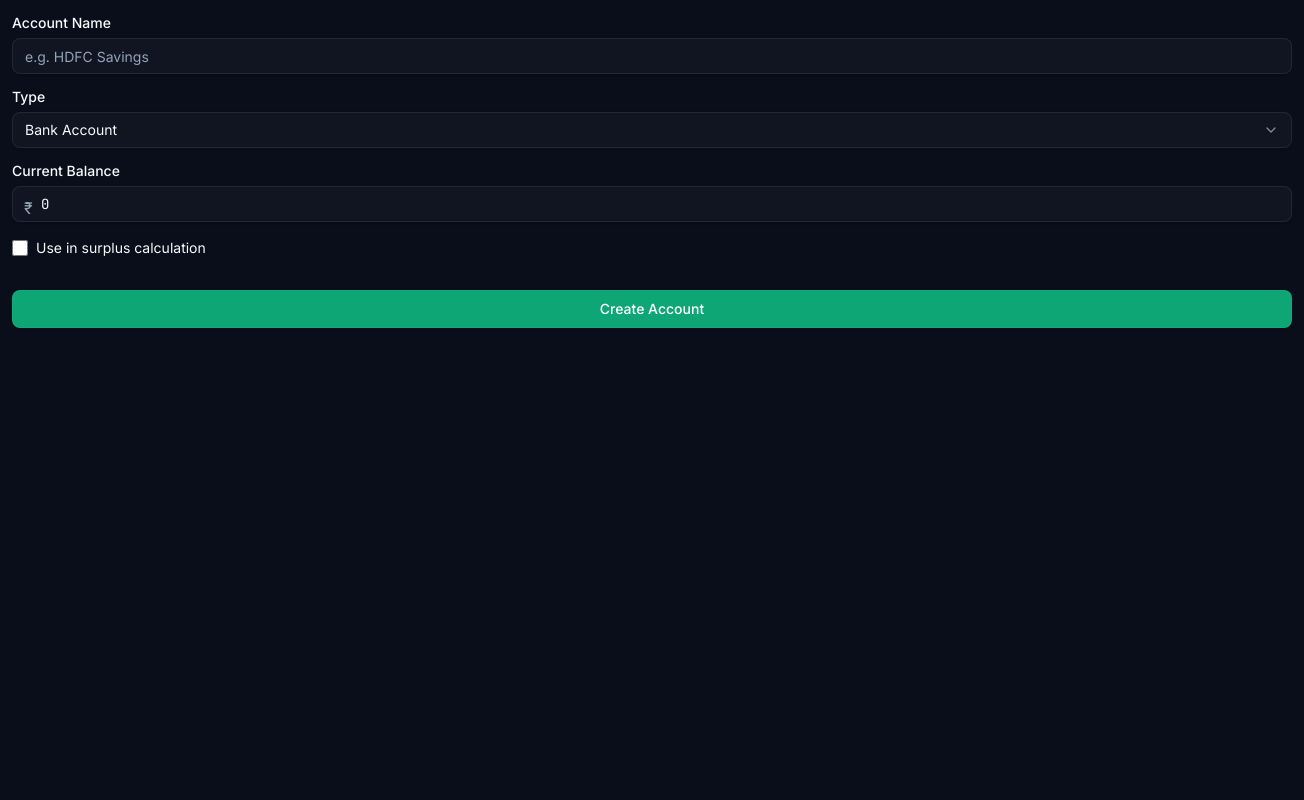
Test case: AccountCreateFormFields - Loan type › renders loan-specific fields when loan type selected
Click the dropdown at coordinates (71, 130), box [12, 112, 1292, 148]
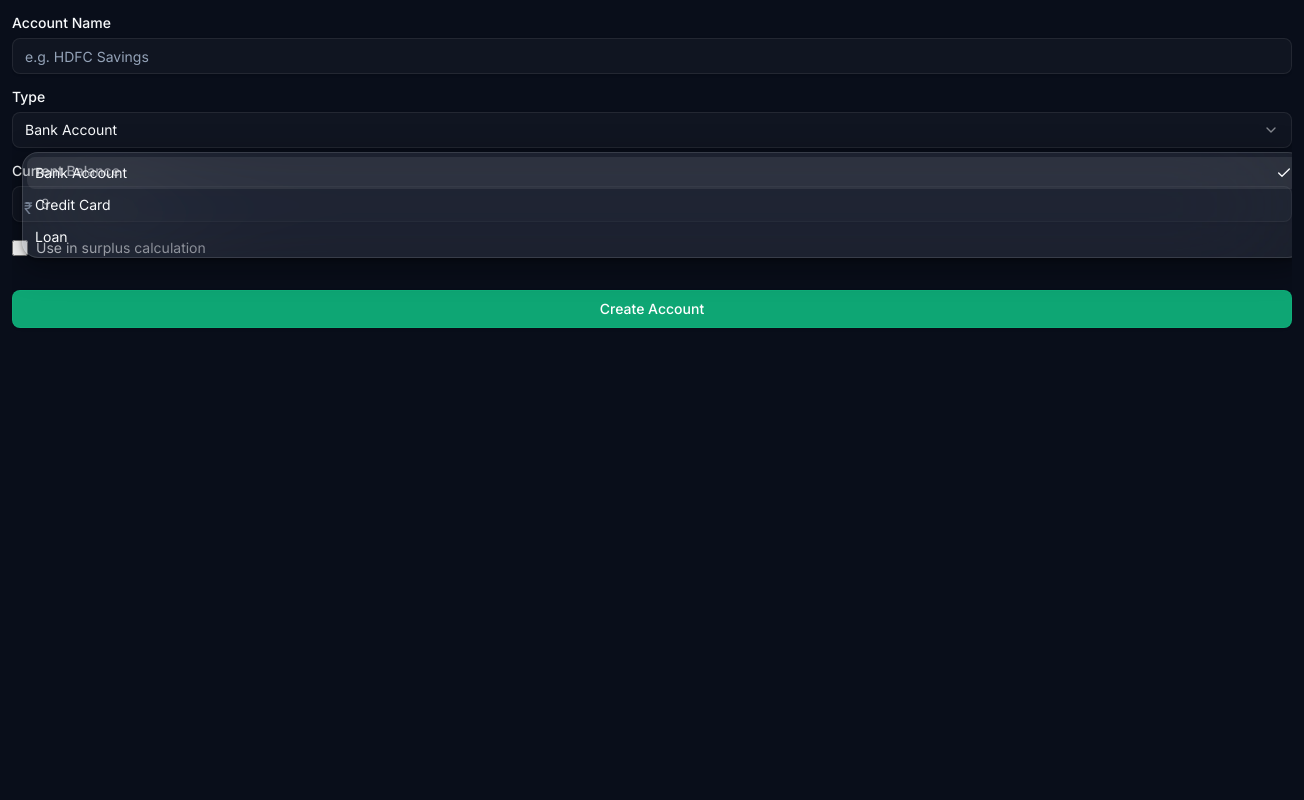
Click the option "Loan" at coordinates (51, 236), box [35, 228, 68, 245]
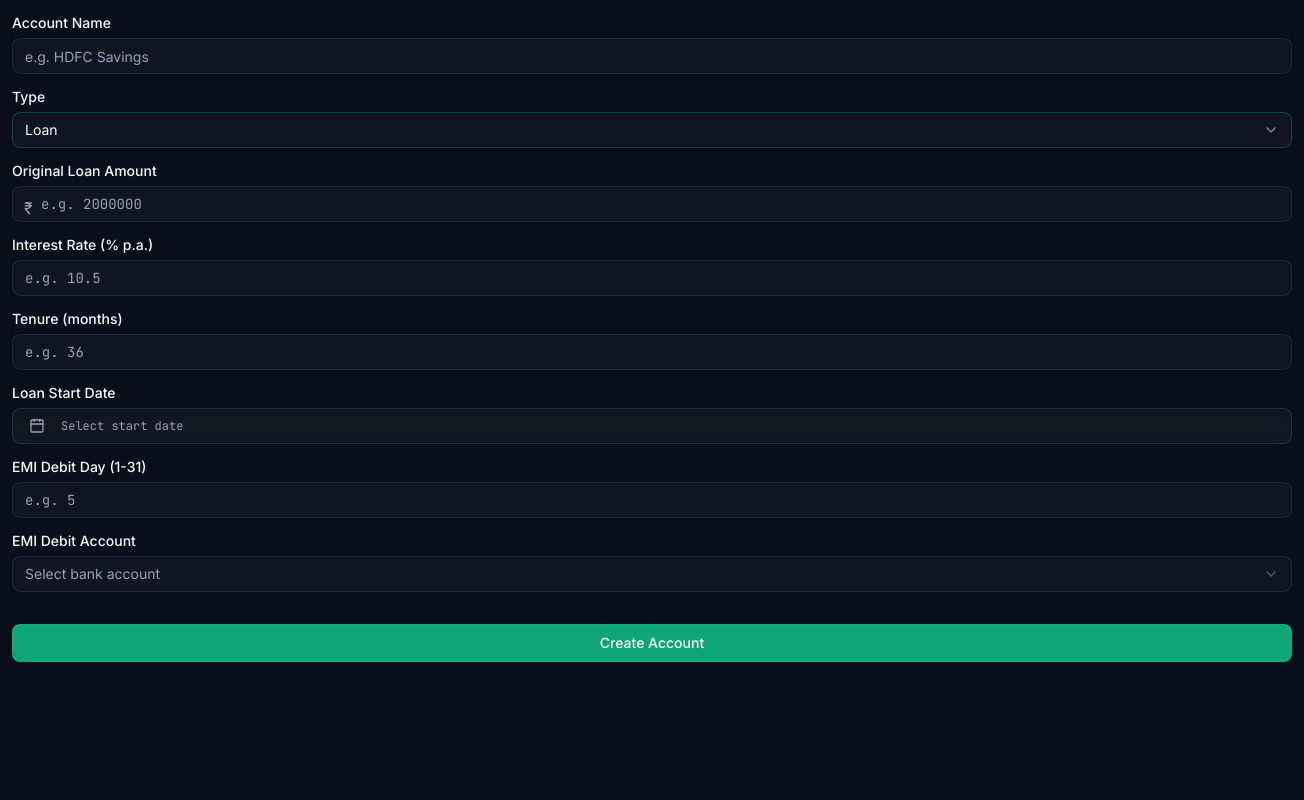
expect the text "Original Loan Amount" is shown: met, box [12, 162, 157, 179]
expect the text "Interest Rate (% p.a.)" is shown: met, box [12, 236, 153, 253]
expect the text "Tenure (months)" is shown: met, box [12, 310, 123, 327]
